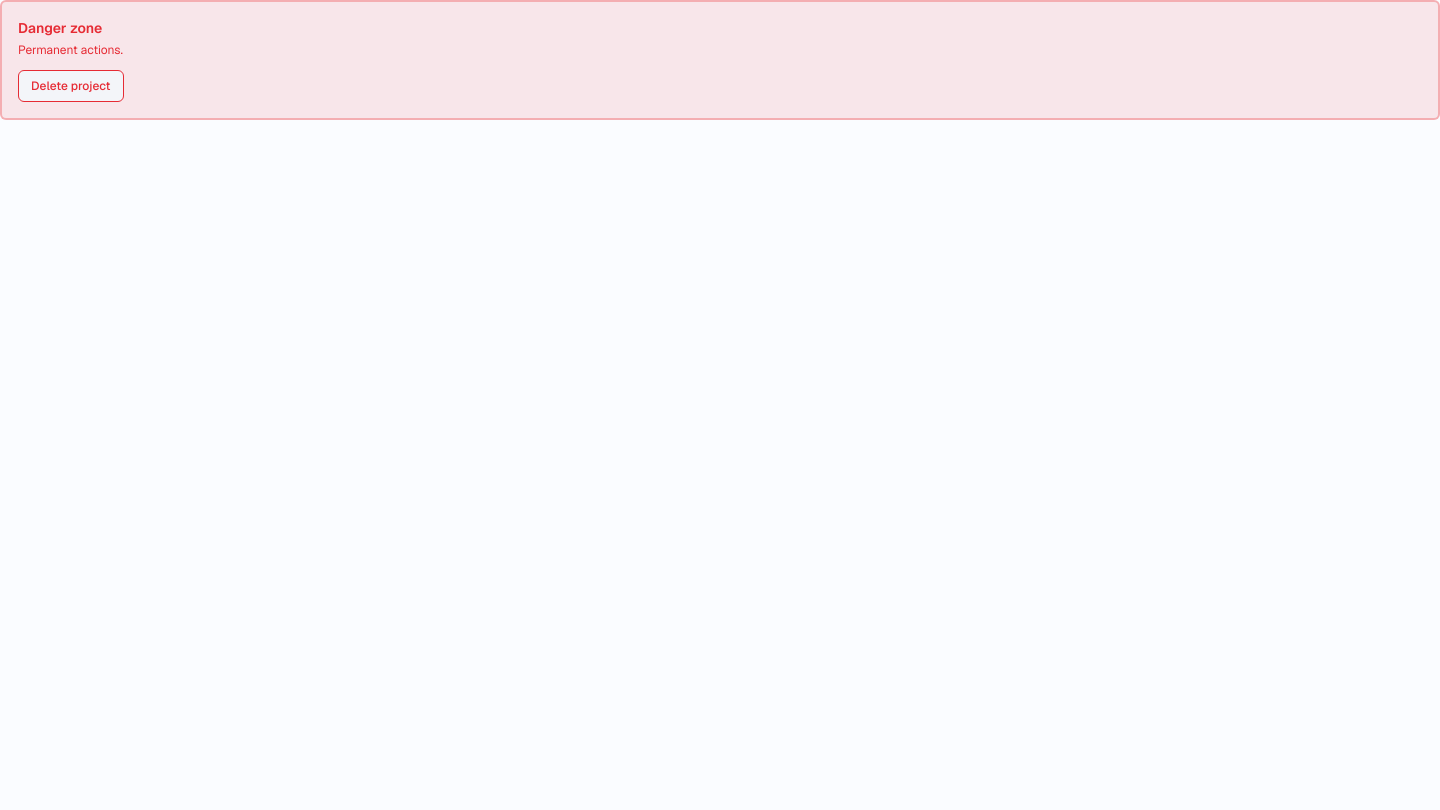
Scenario: DangerZoneSection › wrong slug → confirm button disabled; correct slug → DELETE called → navigate
The width and height of the screenshot is (1440, 810).
Later steps or results of the test are not shown.
Click the button "Delete project" at (71, 86), box left=18, top=70, right=124, bottom=102
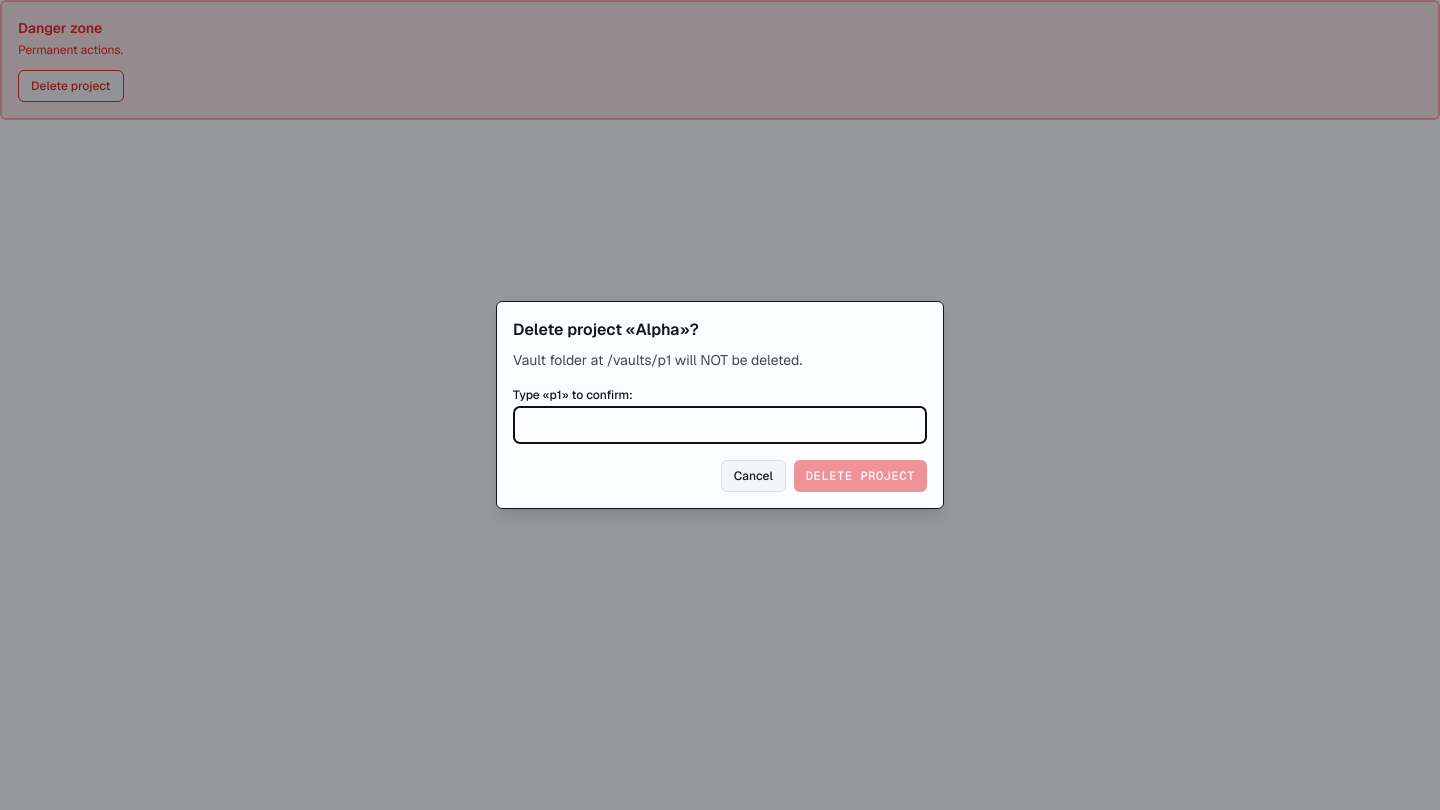
Check: the button "Delete project" below "Type «p1» to confirm:" is disabled, box left=794, top=460, right=927, bottom=492
Type "wrong-slug" into the field at (720, 425), box left=513, top=406, right=927, bottom=444
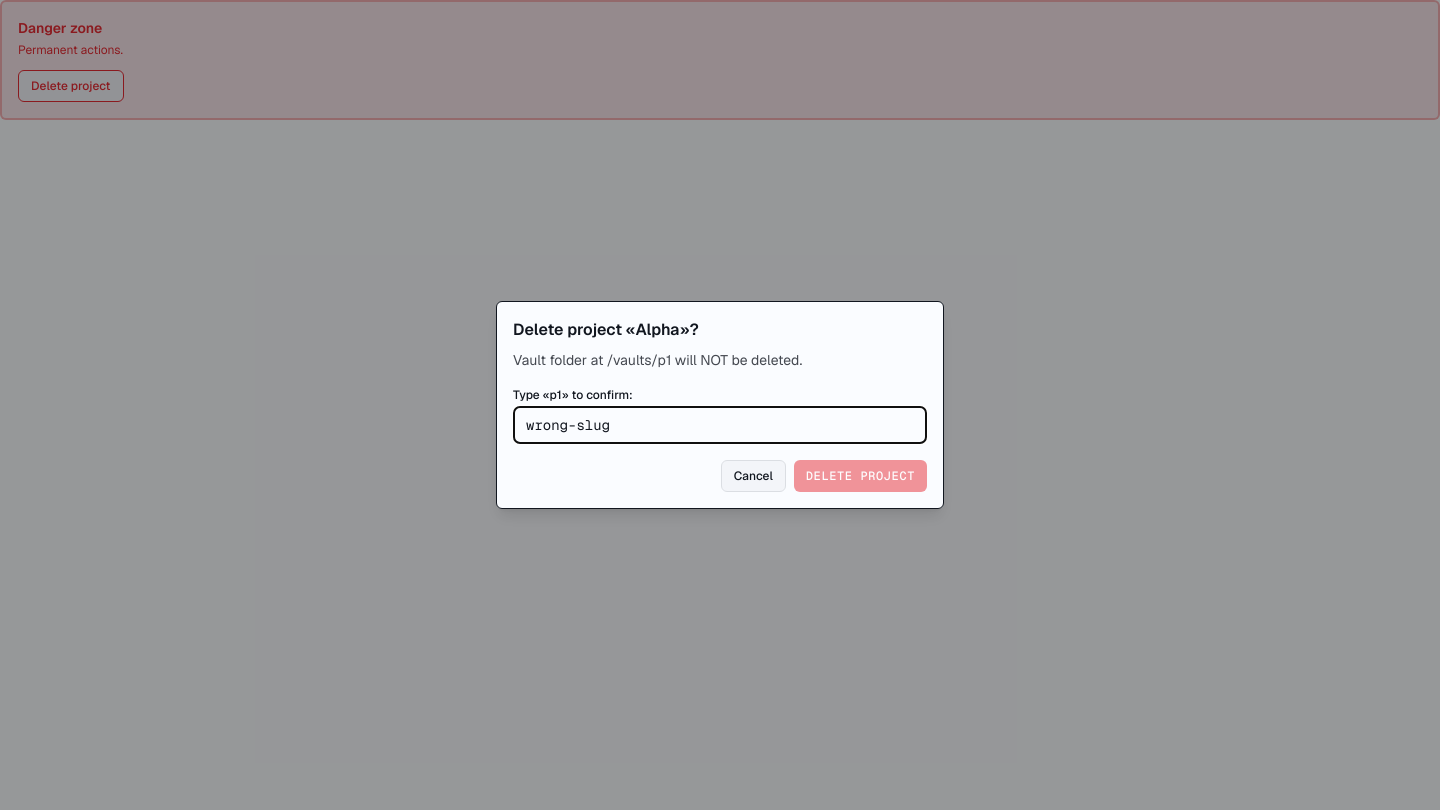
Check: the button "Delete project" below "Type «p1» to confirm:" is disabled, box left=794, top=460, right=927, bottom=492
Replace the text in the field with "p1" at (720, 425), box left=513, top=406, right=927, bottom=444
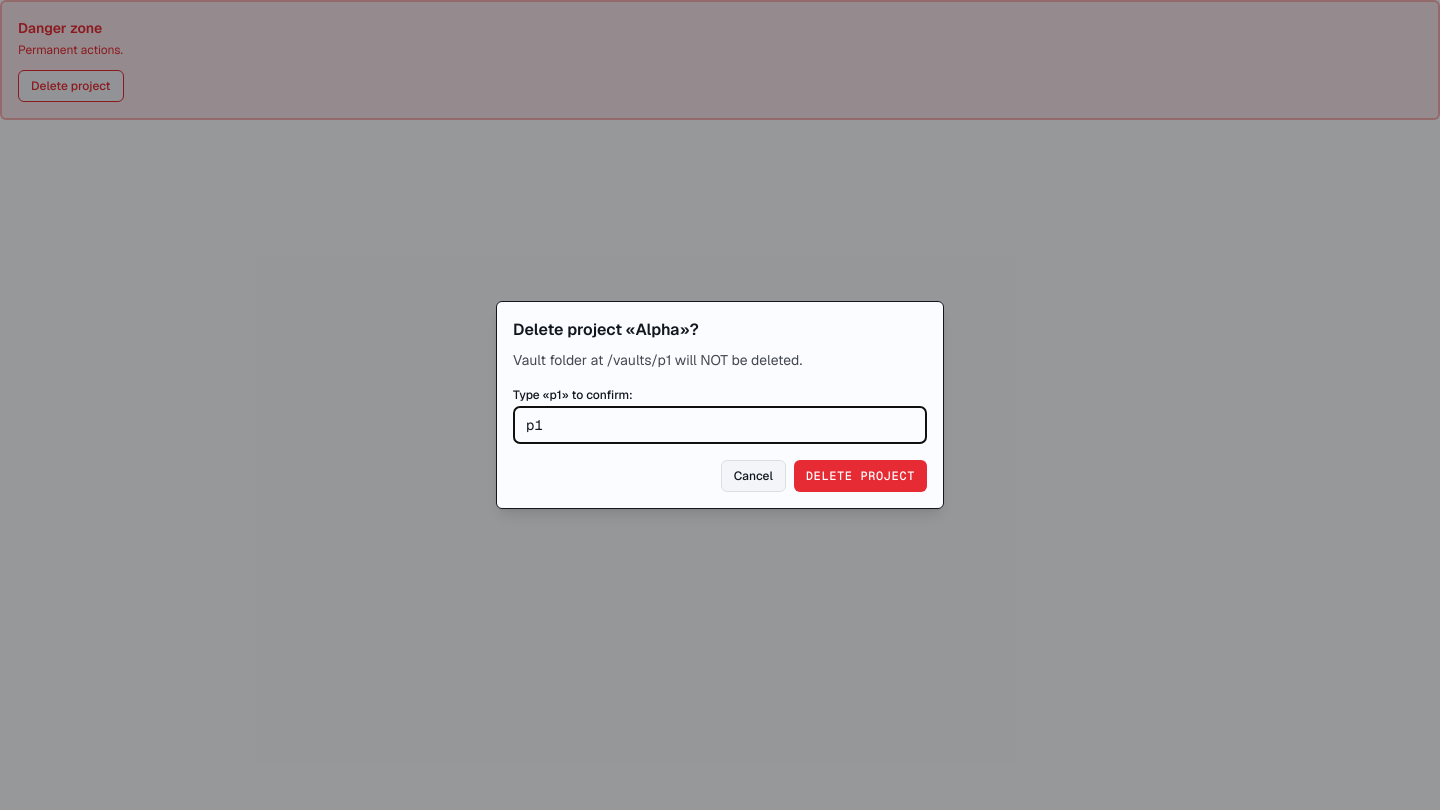
Check: the button "Delete project" below "Type «p1» to confirm:" is enabled, box left=794, top=460, right=927, bottom=492
